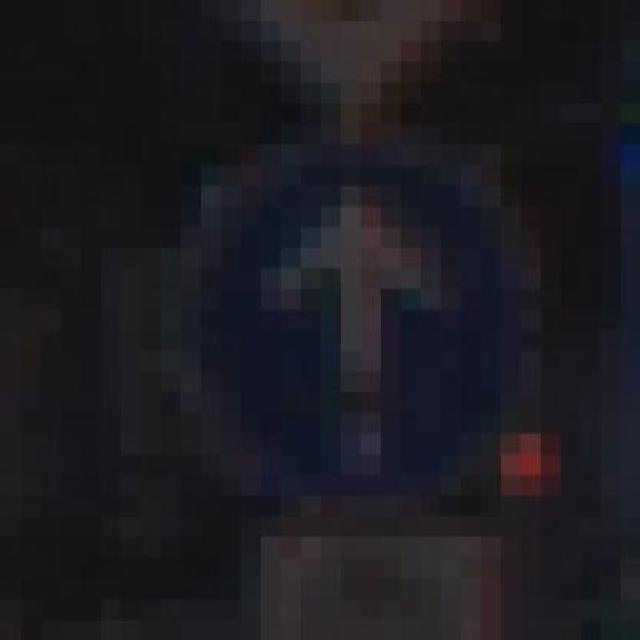Straight Ahead Only: (140, 103, 560, 495)
